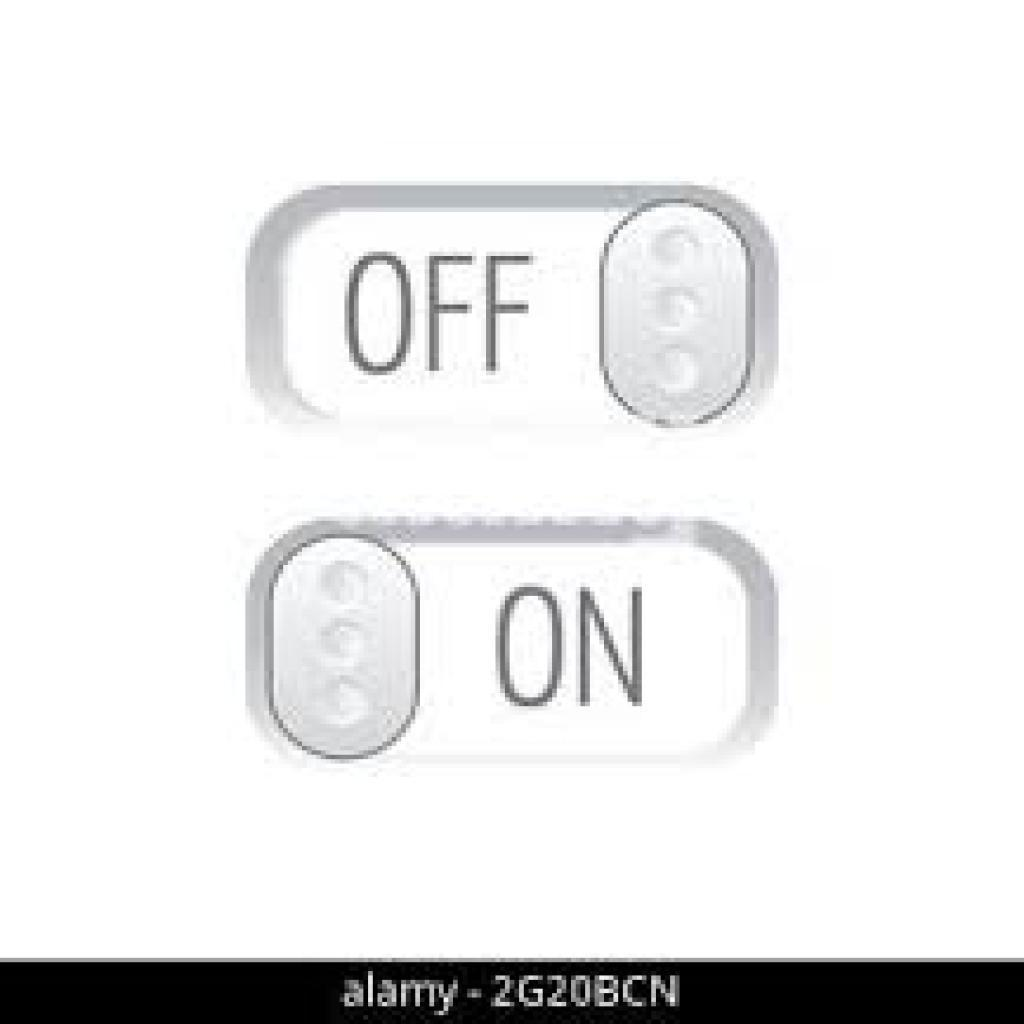switch: (245, 517, 782, 781), (244, 185, 780, 449)
